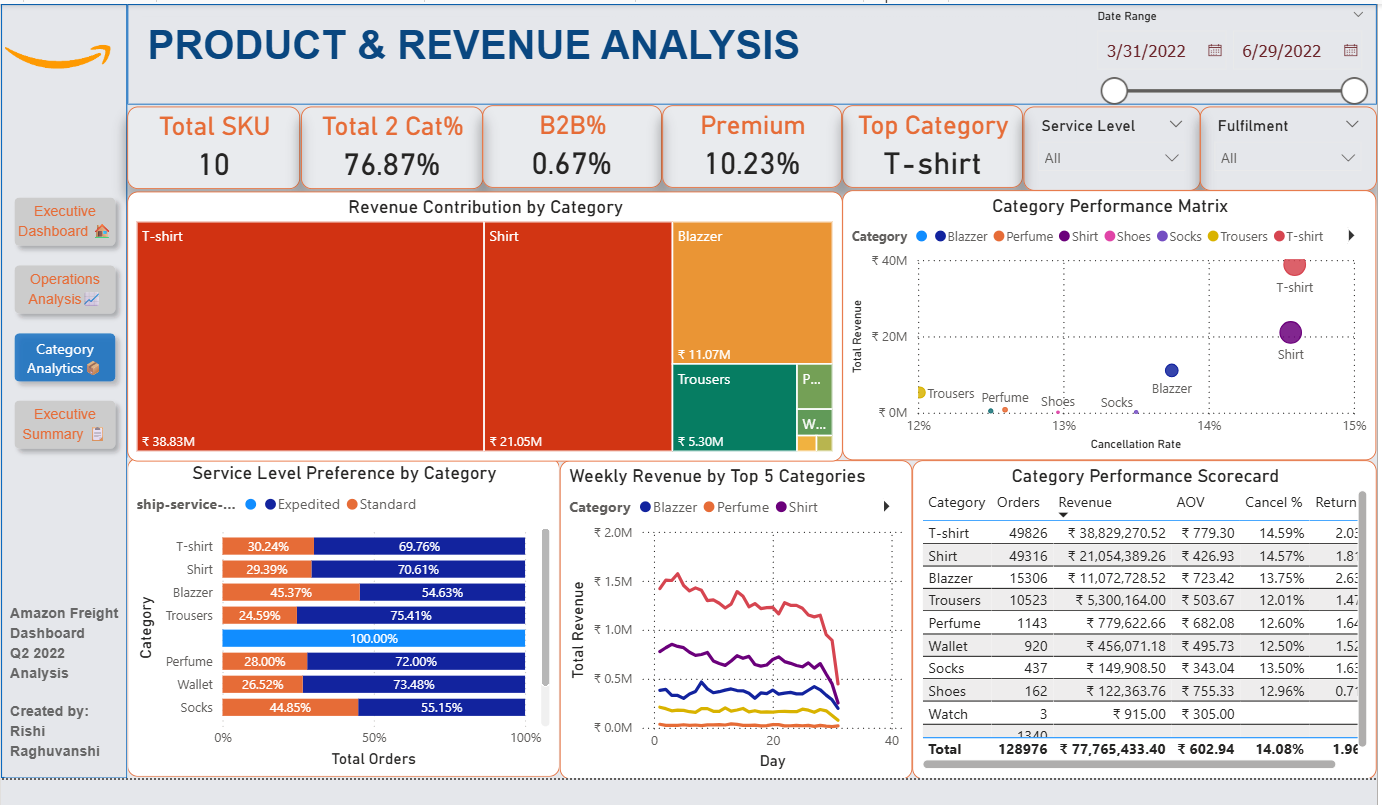

This screenshot's page, from the dashboard's own definition file:
{"tool":"powerbi","page":{"name":"Category Analytics📦","canvas":[1280,720],"ordinal":2},"visuals":[{"type":"shape","box":[0,0,117.5,720],"z":0},{"type":"shape","box":[117.5,0,1162.5,93.8],"z":1000},{"type":"pageNavigator","box":[3.5,170.9,112.8,252.3],"z":2000},{"type":"textbox","box":[3.5,552.3,112.8,167.4],"z":3000},{"type":"image","box":[0,0,117.7,94.9],"z":4000},{"type":"textbox","box":[131.2,11.2,868.8,70],"z":5000},{"type":"slicer","title":"Date Range","fields":{"Values":["amazon_enriched.Date"]},"box":[1007.1,0,272.9,107.1],"z":6000},{"type":"card","title":"Total SKU","fields":{"Values":["amazon_enriched.Total Categories"]},"box":[117.7,94.9,160.9,76.8],"z":7000},{"type":"card","title":"Total 2 Cat%","fields":{"Values":["amazon_enriched.Top 2 Cat %"]},"box":[278.6,94.9,169.3,76.8],"z":8000},{"type":"card","title":"B2B%","fields":{"Values":["amazon_enriched.B2B %"]},"box":[447.9,93.7,166.9,76.8],"z":9000},{"type":"card","title":"Top Category","fields":{"Values":["amazon_enriched.Top Category"]},"box":[782.9,93.7,168.1,76.8],"z":10000},{"type":"card","title":"Premium","fields":{"Values":["amazon_enriched.Premium % High Value"]},"box":[614.8,93.7,166.9,76.8],"z":11000},{"type":"hundredPercentStackedBarChart","title":"Service Level Preference by Category","fields":{"Category":["amazon_enriched.Category"],"Series":["amazon_enriched.ship-service-level"],"Y":["amazon_enriched.Total Orders"]},"box":[117.7,422.7,402.3,296.6],"z":12000},{"type":"lineChart","title":"Weekly Revenue by Top 5 Categories","fields":{"Category":["amazon_enriched.Date.Variation.Date Hierarchy.Day"],"Series":["amazon_enriched.Category"],"Y":["amazon_enriched.Total Revenue"]},"box":[519.9,423.9,327.8,296.6],"z":13000},{"type":"tableEx","title":"Category Performance Scorecard","fields":{"Values":["amazon_enriched.Category","amazon_enriched.Total Orders","amazon_enriched.Total Revenue","amazon_enriched.AOV","amazon_enriched.Cancellation Rate","amazon_enriched.Return Rate"]},"box":[847.7,423.9,432.3,296.6],"z":14000},{"type":"slicer","fields":{"Values":["amazon_enriched.ship-service-level"]},"box":[951,94.9,164.5,78],"z":15000},{"type":"slicer","fields":{"Values":["amazon_enriched.Fulfilment"]},"box":[1115.5,94.9,164.5,78],"z":16000},{"type":"treemap","title":"Revenue Contribution by Category","fields":{"Group":["amazon_enriched.Category"],"Values":["amazon_enriched.Total Revenue"]},"box":[117.7,174.1,665.2,251],"z":17000},{"type":"scatterChart","title":"Category Performance Matrix","fields":{"X":["amazon_enriched.Cancellation Rate"],"Y":["amazon_enriched.Total Revenue"],"Size":["amazon_enriched.Total Orders"],"Series":["amazon_enriched.Category"]},"box":[782.9,172.9,497.1,251],"z":18000}]}

Visuals, with their boxes on the page's 1280x720 design canvas (x1, y1, x2, y2). These are canvas units, not pixel positions in the 1382x805 screenshot, which may show the page scaled, cropped or inside an application window:
shape: 0, 0, 118, 720
shape: 118, 0, 1280, 94
pageNavigator: 4, 171, 116, 423
textbox: 4, 552, 116, 720
image: 0, 0, 118, 95
textbox: 131, 11, 1000, 81
"Date Range" slicer: 1007, 0, 1280, 107
"Total SKU" card: 118, 95, 279, 172
"Total 2 Cat%" card: 279, 95, 448, 172
"B2B%" card: 448, 94, 615, 170
"Top Category" card: 783, 94, 951, 170
"Premium" card: 615, 94, 782, 170
"Service Level Preference by Category" hundredPercentStackedBarChart: 118, 423, 520, 719
"Weekly Revenue by Top 5 Categories" lineChart: 520, 424, 848, 720
"Category Performance Scorecard" tableEx: 848, 424, 1280, 720
slicer - amazon_enriched.ship-service-level: 951, 95, 1116, 173
slicer - amazon_enriched.Fulfilment: 1116, 95, 1280, 173
"Revenue Contribution by Category" treemap: 118, 174, 783, 425
"Category Performance Matrix" scatterChart: 783, 173, 1280, 424
